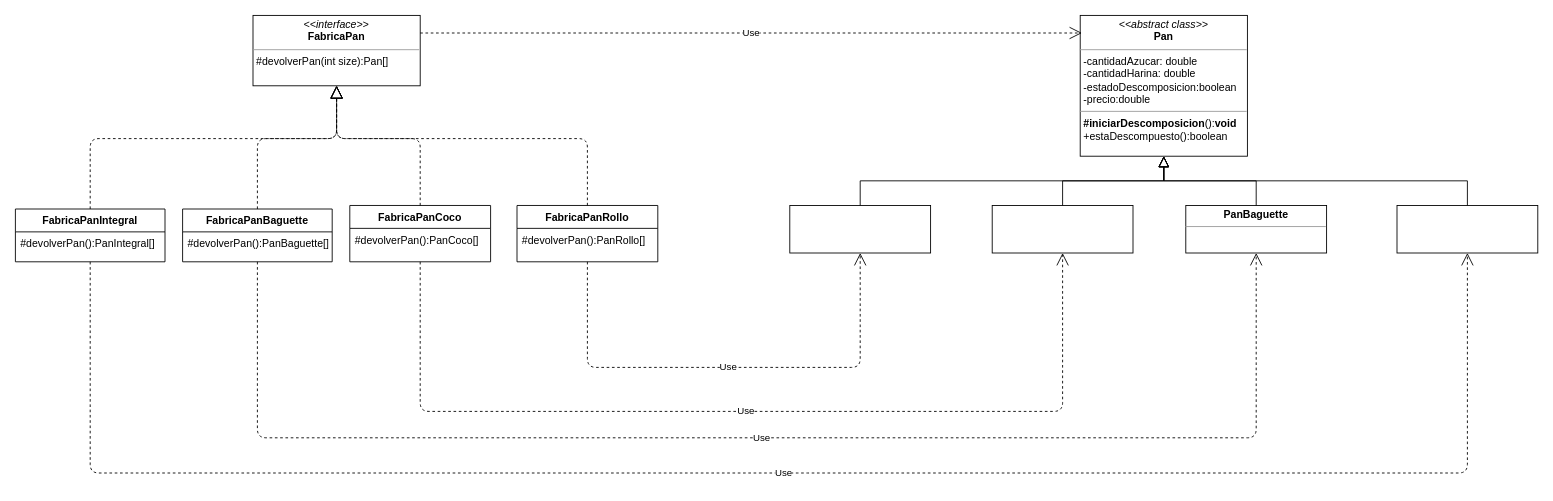
The diagram is 1553 pixels wide and 501 high, and some of its shapes have lost their labels. The shapes that lost their labels are listed below. From the top down, each one's centre as x and y in pixels, then its label:
the point at 860,229: PanRollo
the point at 1062,229: PanCoco
the point at 1467,229: PanIntegral
